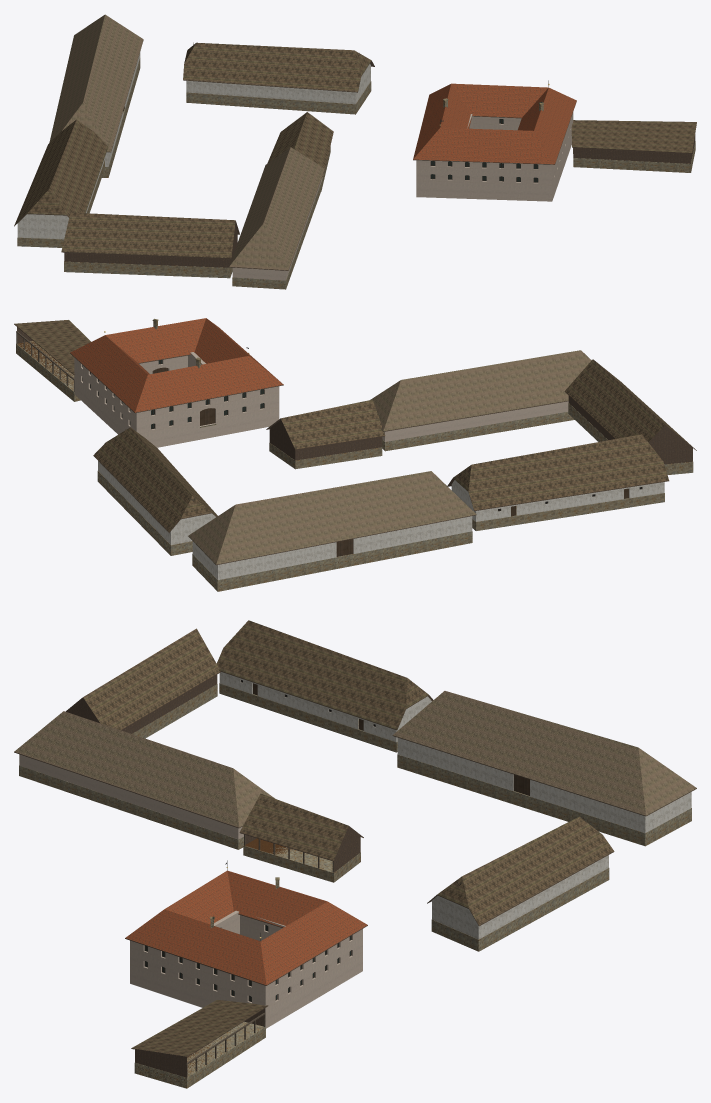
File: folwark_lekki.glb
3 views of the same model, one above another, from view 1: azimuth 30°, elevation 25°; view 2: azimuth 150°, elevation 25°; view 3: azimuth 270°, elevation 25° (orthographic). The views are drawn at different scales.
Visible parts, largest first — view 1: dach__gont, dach__strzecha, dach__dachowka, cokol__kamien_mur, sciana__tynk, sciana__bale, sciana__deski, dach_okap__deski, dz__tynk; view 2: dach__gont, dach__strzecha, cokol__kamien_mur, dach__dachowka, sciana__tynk, sciana__bale, sciana__deski, dach_okap__deski, wrota_skrzydlo__wrota, dz__tynk, klepisko__gruz; view 3: dach__gont, dach__strzecha, cokol__kamien_mur, dach__dachowka, sciana__tynk, sciana__bale, sciana__deski, dach_okap__deski, dz__tynk.
Boxes of the visible parts, x1,y1,x2,y2 form: dach__gont: (14,42,696,258); dach__strzecha: (49,14,324,270); dach__dachowka: (413,83,576,164); cokol__kamien_mur: (17,57,695,289); sciana__tynk: (232,112,573,280); sciana__bale: (17,52,370,239); sciana__deski: (64,134,695,267); dach_okap__deski: (14,40,696,270); dz__tynk: (467,114,521,130); dach__gont: (14,320,694,532); dach__strzecha: (188,350,591,564); cokol__kamien_mur: (16,341,693,591); dach__dachowka: (70,318,283,412); sciana__tynk: (74,357,568,447); sciana__bale: (98,461,664,579); sciana__deski: (17,327,692,464); dach_okap__deski: (14,324,696,565); wrota_skrzydlo__wrota: (200,408,628,556); dz__tynk: (139,352,205,374); klepisko__gruz: (17,340,73,390); dach__gont: (83,620,613,1056); dach__strzecha: (14,691,696,827); cokol__kamien_mur: (19,683,691,1088); dach__dachowka: (125,870,367,985); sciana__tynk: (19,754,362,1028); sciana__bale: (219,672,691,939); sciana__deski: (66,675,360,1077); dach_okap__deski: (14,670,696,1057); dz__tynk: (214,910,285,940).
Size of the model in its own units: 144 by 19.73 by 110.
17 materials, 14 textured.
